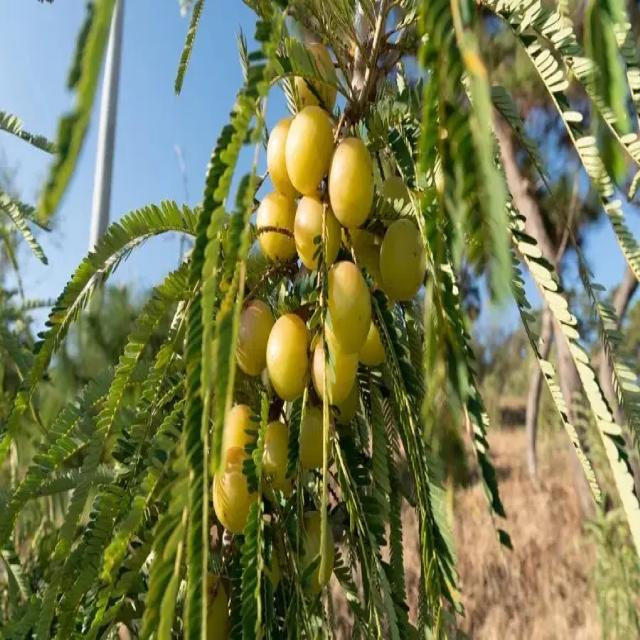ganlan: (36, 6, 437, 640)
